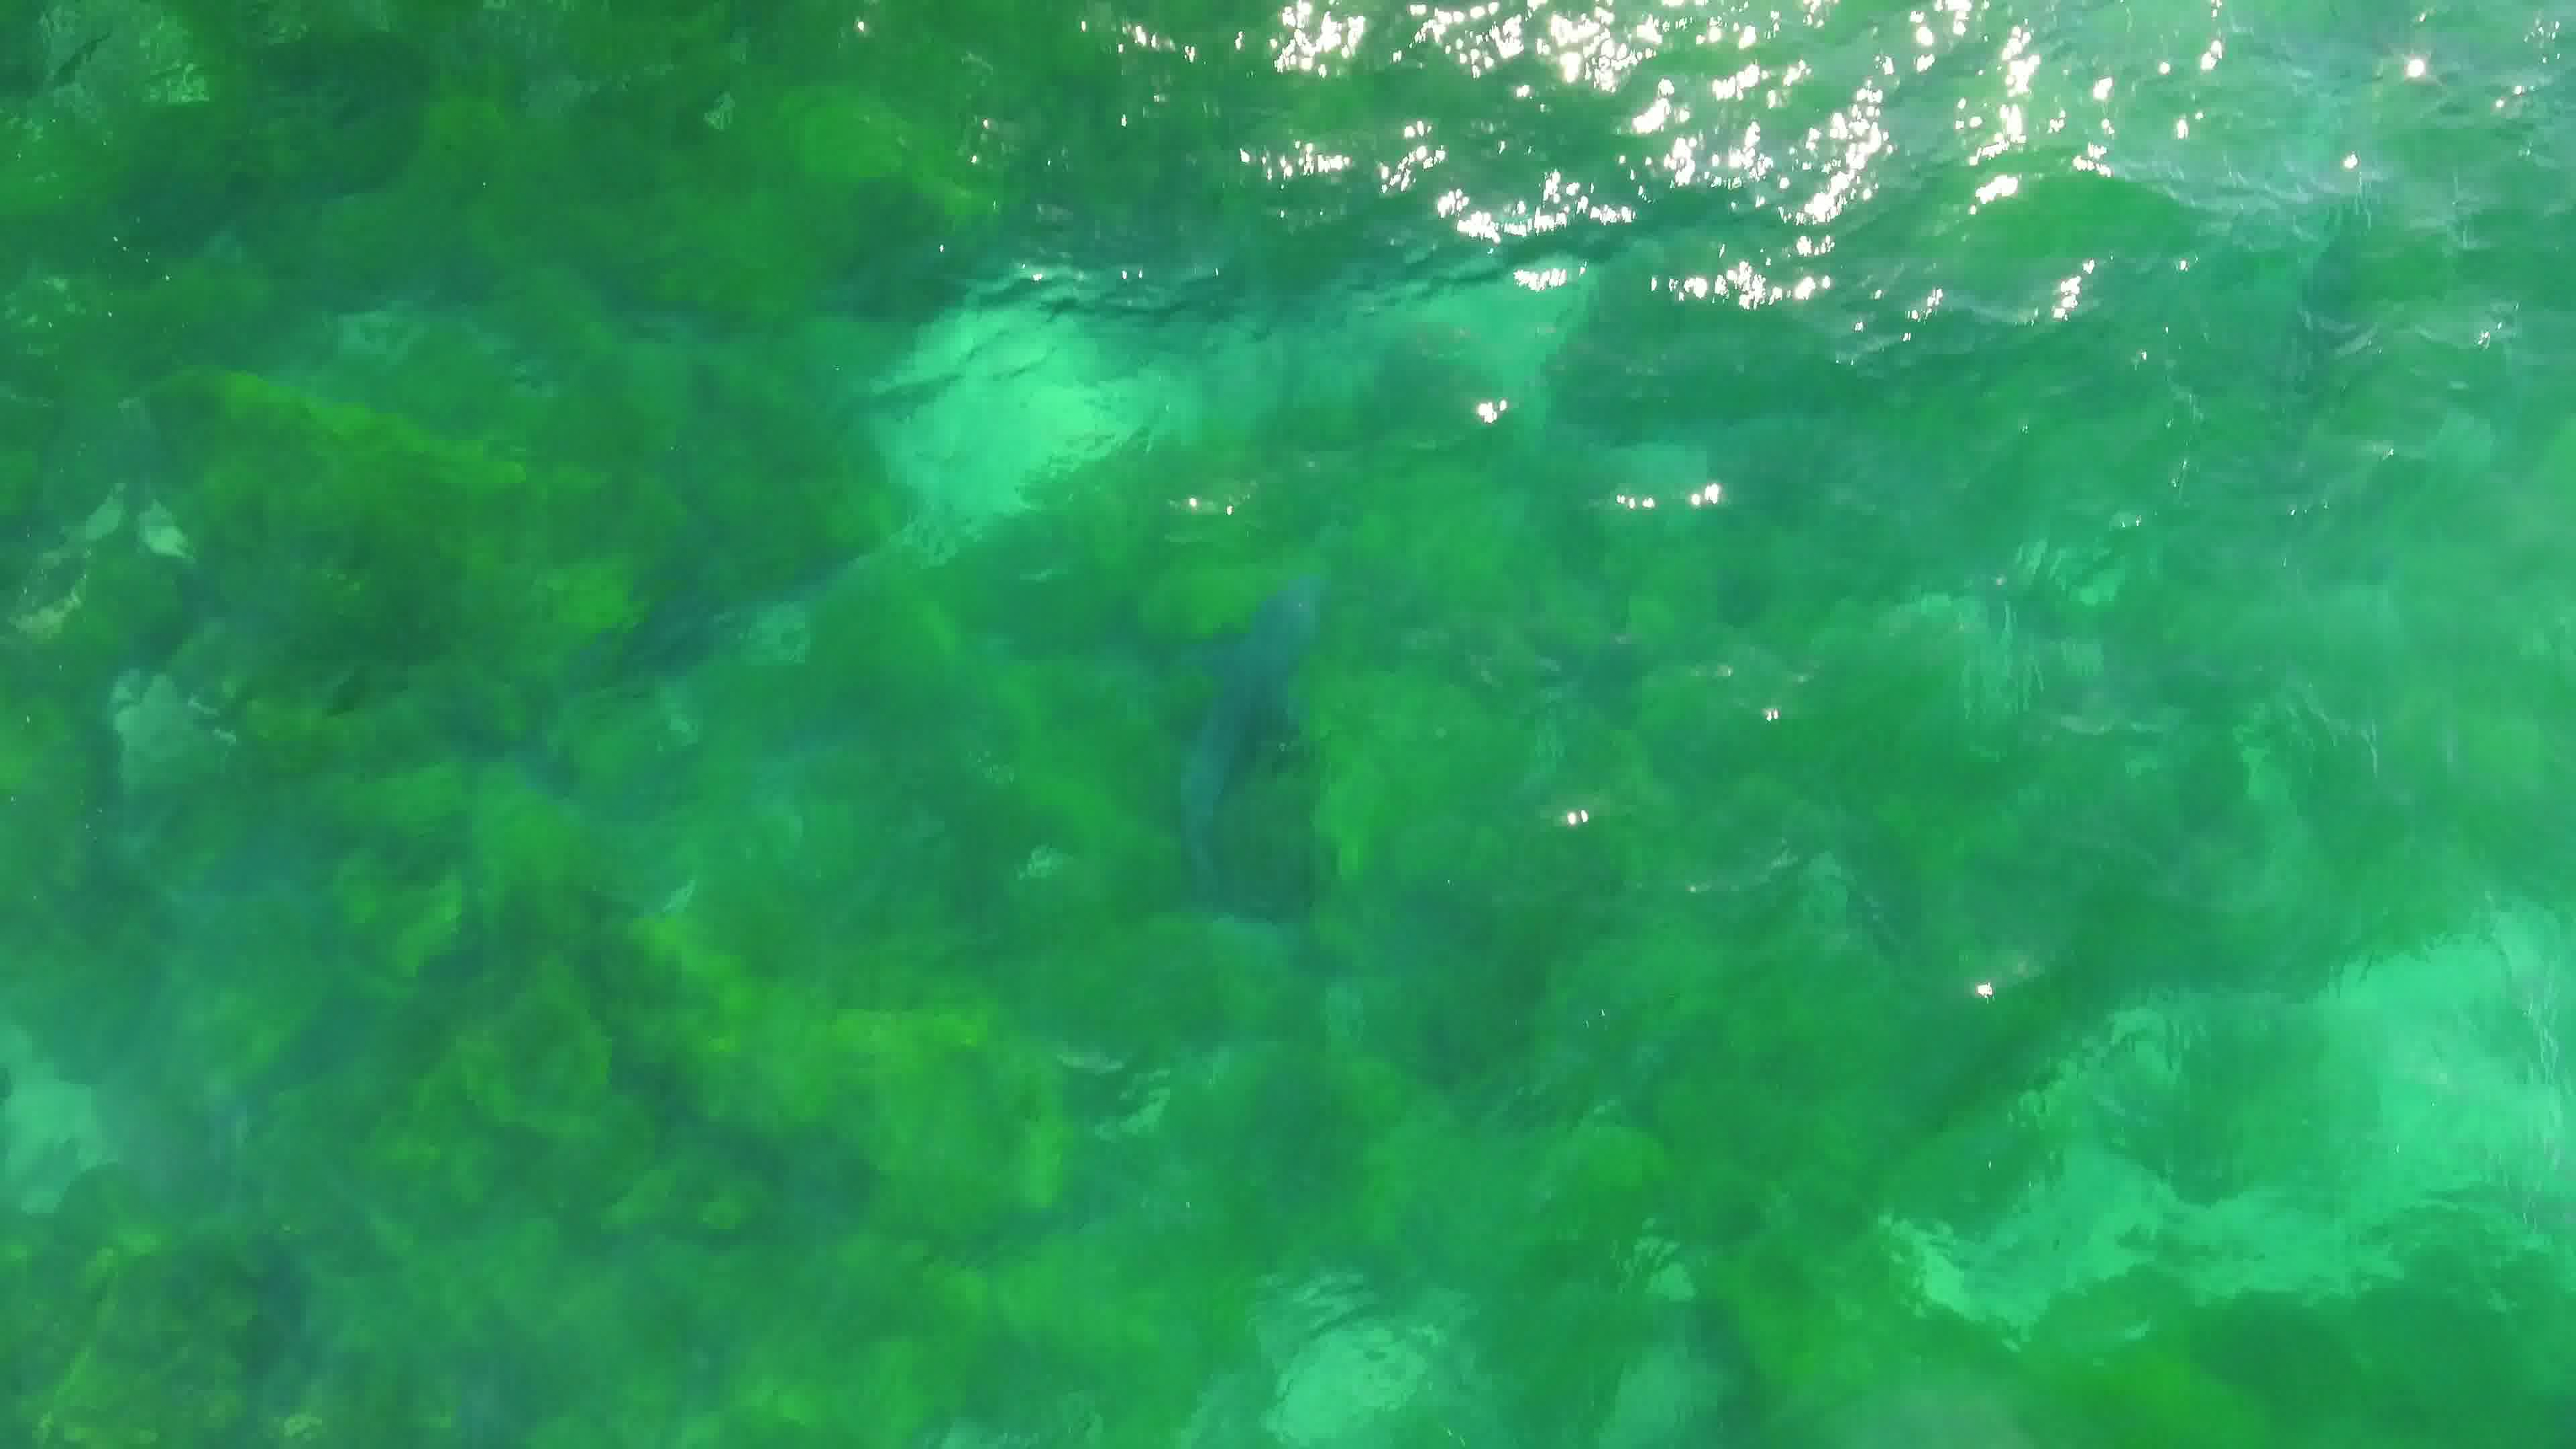shark: (1155, 580, 1332, 906)
